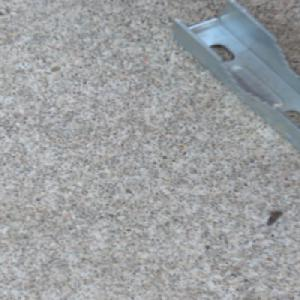ClampPart: (167, 0, 300, 146)
